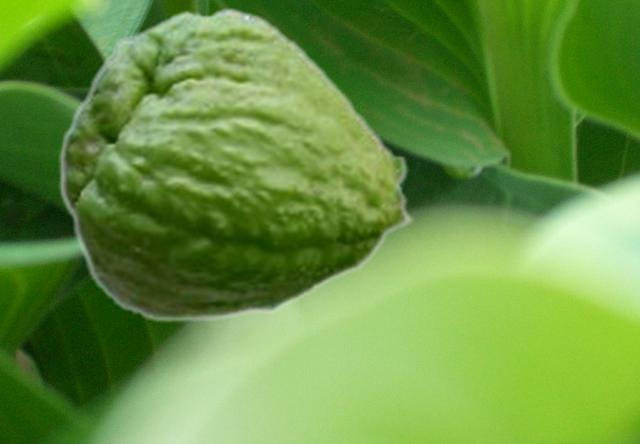sayote: (58, 6, 415, 323)
